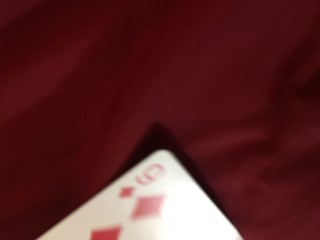NineOfDiamonds: (33, 149, 244, 240)
